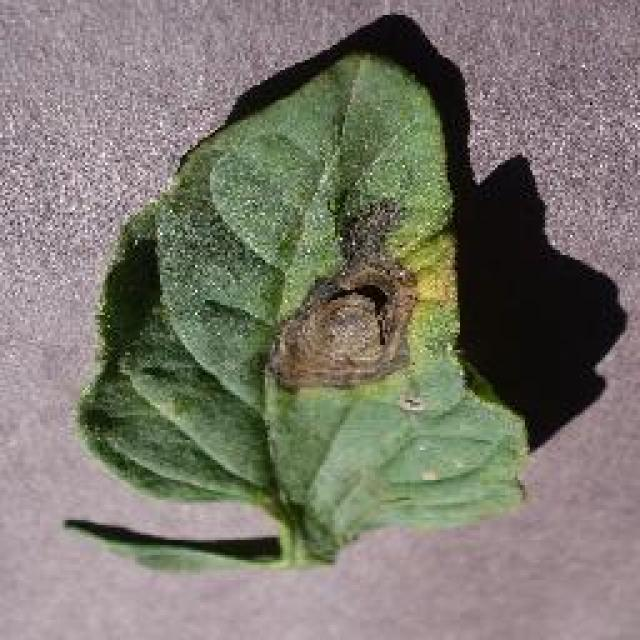Tomato Early blight leaf: (76, 56, 539, 596)
